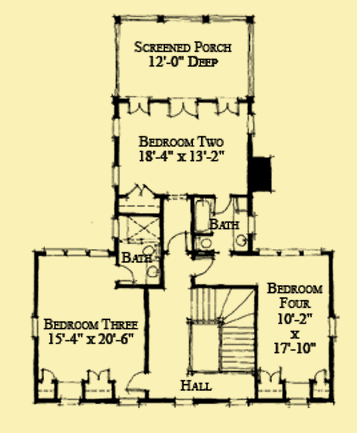door: (167, 97, 202, 119), (114, 260, 140, 284), (125, 370, 149, 394), (124, 96, 152, 116), (166, 230, 189, 253), (214, 95, 240, 115), (125, 181, 157, 197), (193, 255, 215, 276), (258, 366, 282, 382), (86, 368, 112, 381), (39, 367, 55, 385), (314, 367, 329, 382)
small_sink: (231, 210, 248, 253), (145, 256, 160, 287)
stairs: (187, 284, 257, 373)
tub: (193, 198, 214, 233)
window: (43, 246, 112, 261), (256, 247, 322, 256), (327, 314, 339, 340), (287, 396, 312, 408), (227, 397, 252, 407), (168, 398, 195, 407), (118, 399, 139, 407), (31, 316, 37, 341)
